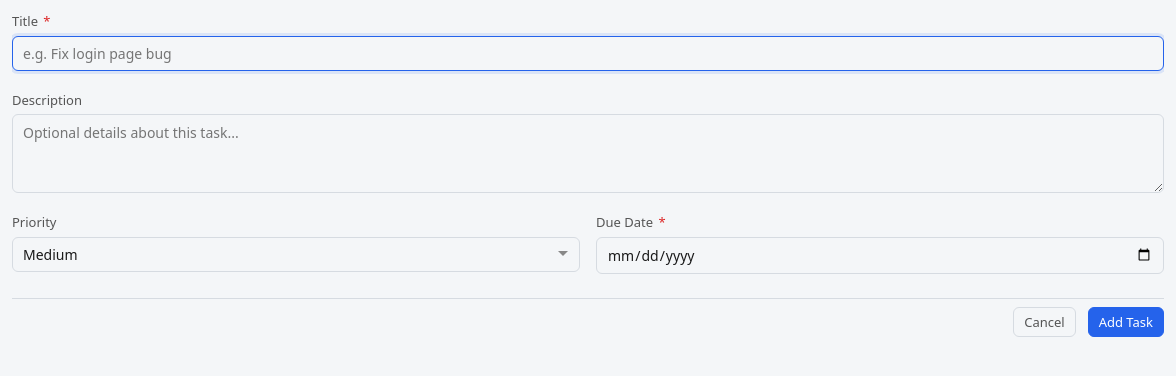
Scenario: TaskForm › shows error when due date is missing
This screenshot has width=1176, height=376.
Type "Valid title" into the field with id "title" at (588, 53), box 12,36 -> 1164,70
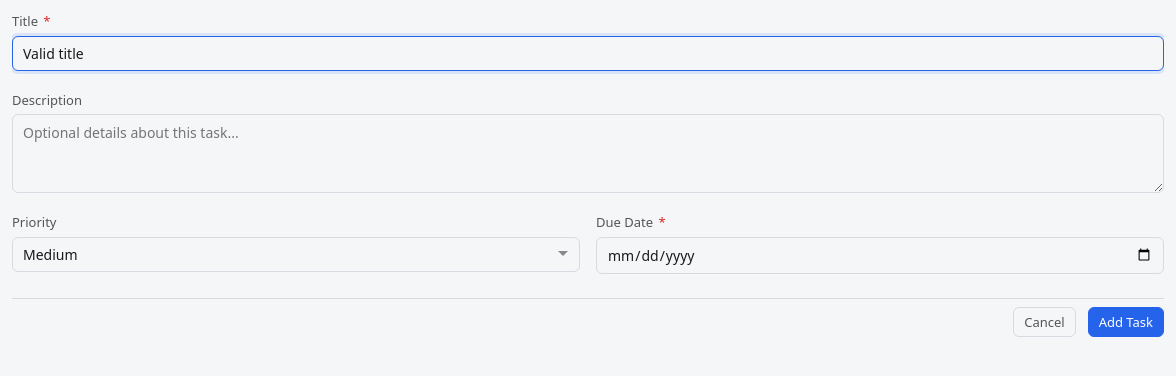
Click the button "Add Task" at (1126, 322), box 1088,306 -> 1164,336
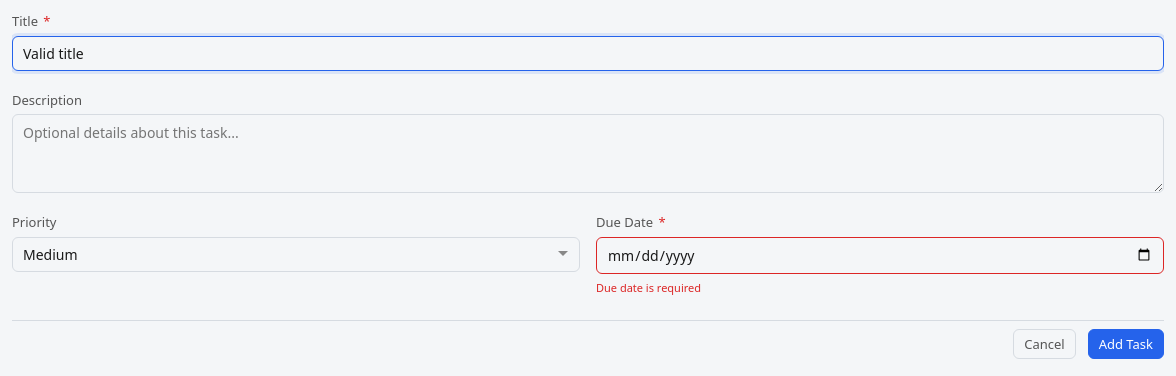
Expected: the text "Due date is required" is shown, 596,280 -> 701,294
